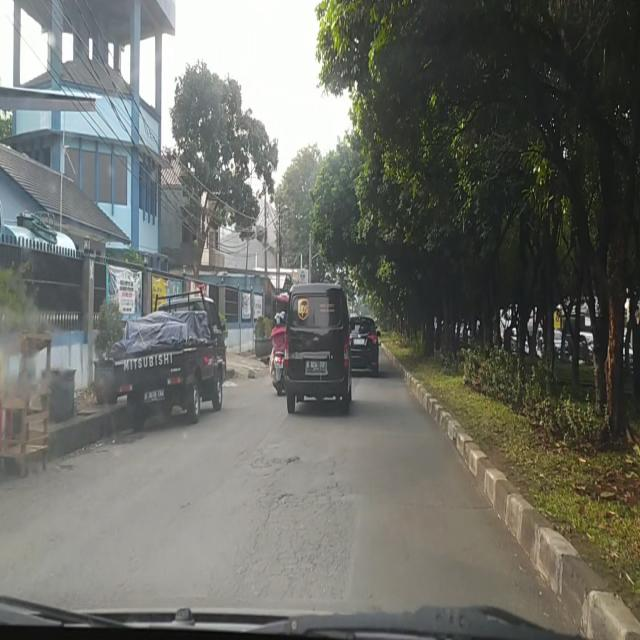Drain Hole: (232, 465, 368, 585)
